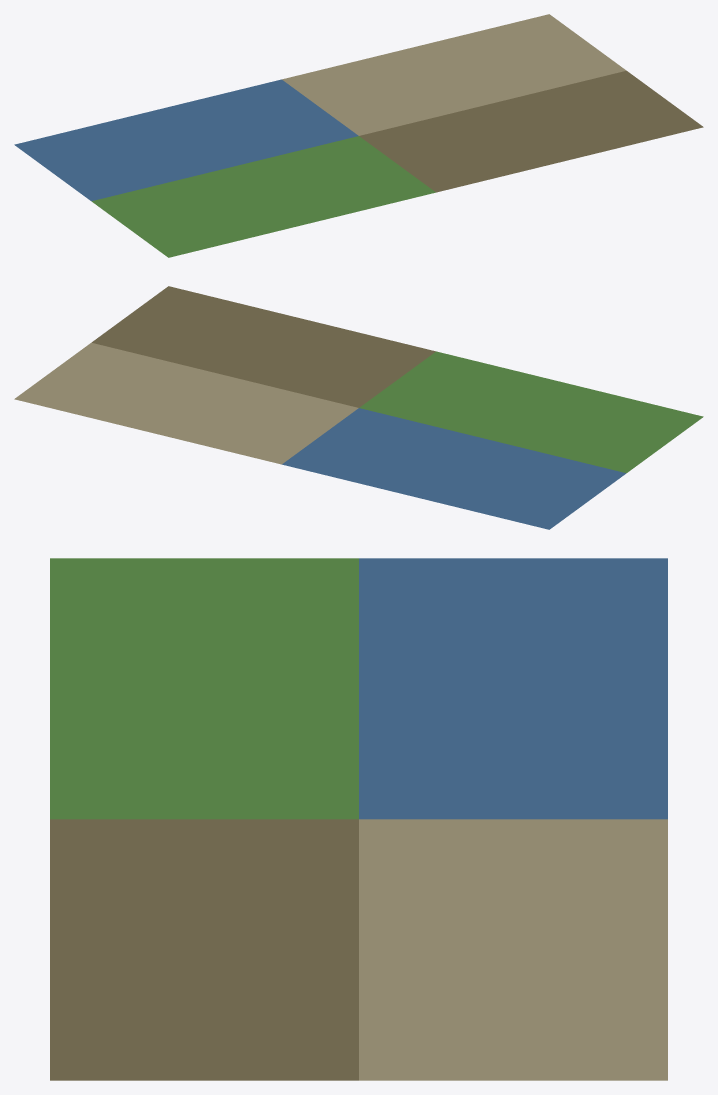
Rendered from far_bubble_b.glb.
3 renders of one model, top to bottom at view 1: azimuth 30°, elevation 25°; view 2: azimuth 150°, elevation 25°; view 3: azimuth 270°, elevation 25°, orthographic. The views are drawn at different scales.
Visible parts, largest first — view 1: far_bubble_b; view 2: far_bubble_b; view 3: far_bubble_b.
Part boxes in pixels (bbox=[...]): far_bubble_b: bbox=[14, 14, 703, 257]; far_bubble_b: bbox=[14, 286, 703, 529]; far_bubble_b: bbox=[50, 558, 667, 1080].
Bounding box in the file's own units: 64 × 0 × 32.
Materials: 1 (1 with a texture image).
